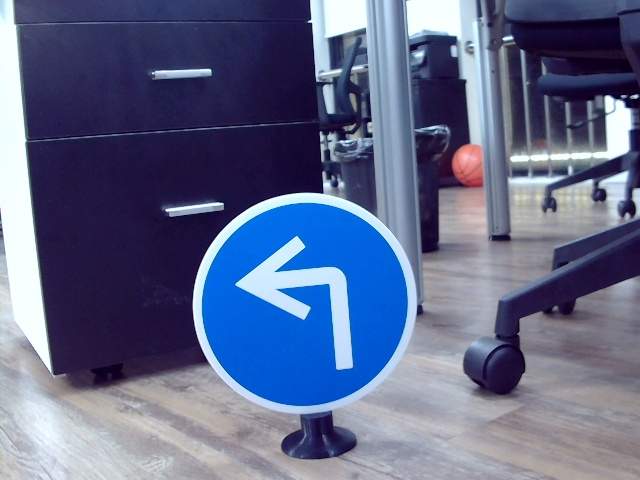turn_left: (231, 239, 356, 373)
